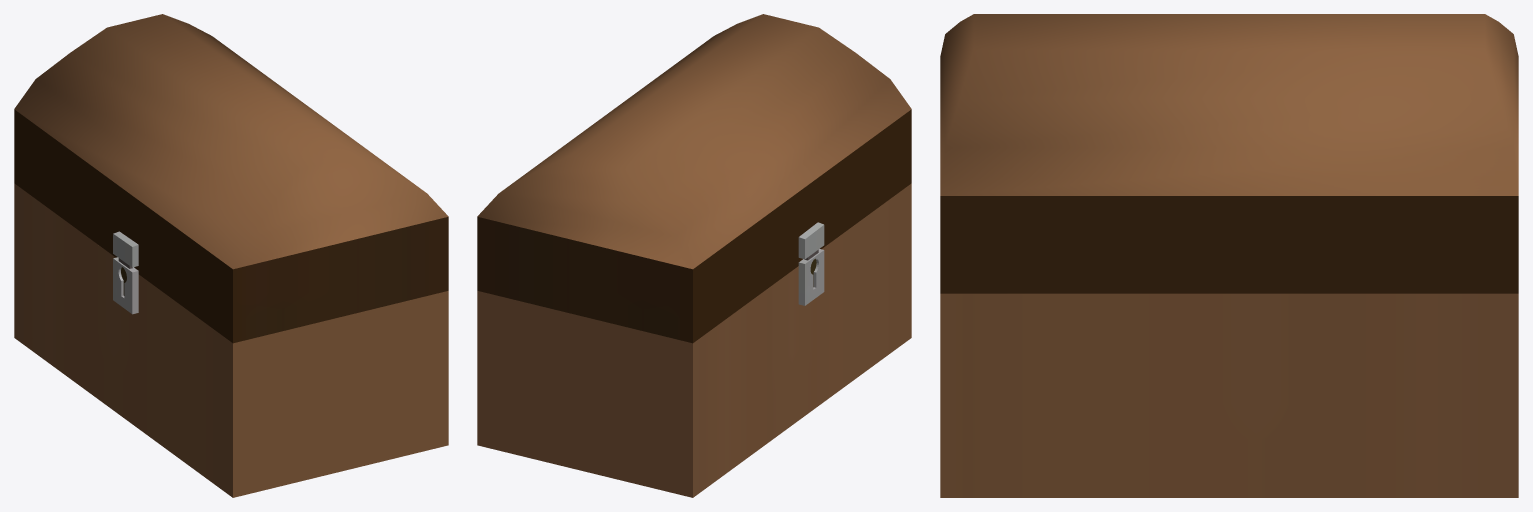
The model's file is Bau01.FBX.
The picture shows the model from 3 angles, left to right: view 1: azimuth 30°, elevation 25°; view 2: azimuth 150°, elevation 25°; view 3: azimuth 270°, elevation 25°; orthographic projection. The views are drawn at different scales.
Visible parts, largest first — view 1: bau tampa mesh, bau mesh; view 2: bau tampa mesh, bau mesh; view 3: bau tampa mesh, bau mesh.
Boxes of the visible parts, x1=… form: bau tampa mesh: x1=14, y1=14, x2=448, y2=343; bau mesh: x1=14, y1=183, x2=448, y2=497; bau tampa mesh: x1=477, y1=14, x2=911, y2=343; bau mesh: x1=477, y1=183, x2=911, y2=497; bau tampa mesh: x1=940, y1=14, x2=1518, y2=293; bau mesh: x1=940, y1=293, x2=1518, y2=497.
Size of the model in its own units: 19.92 by 25.68 by 33.95.
1 material, 1 textured.
